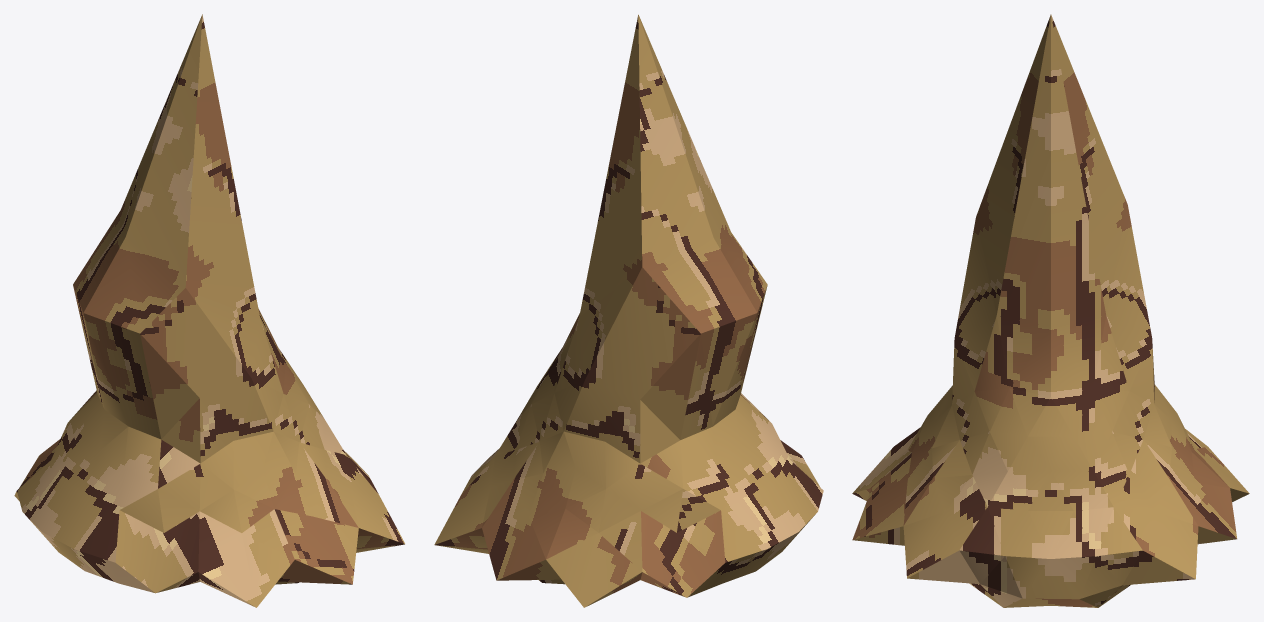
The model's file is stalagmite-300-12.glb.
3 views of the same model, side by side, from view 1: azimuth 30°, elevation 25°; view 2: azimuth 150°, elevation 25°; view 3: azimuth 270°, elevation 25° (orthographic).
Size of the model in its own units: 0.5846 by 0.9892 by 0.6594.
1 material, 1 textured.
